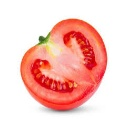tomato: (20, 19, 108, 110)
